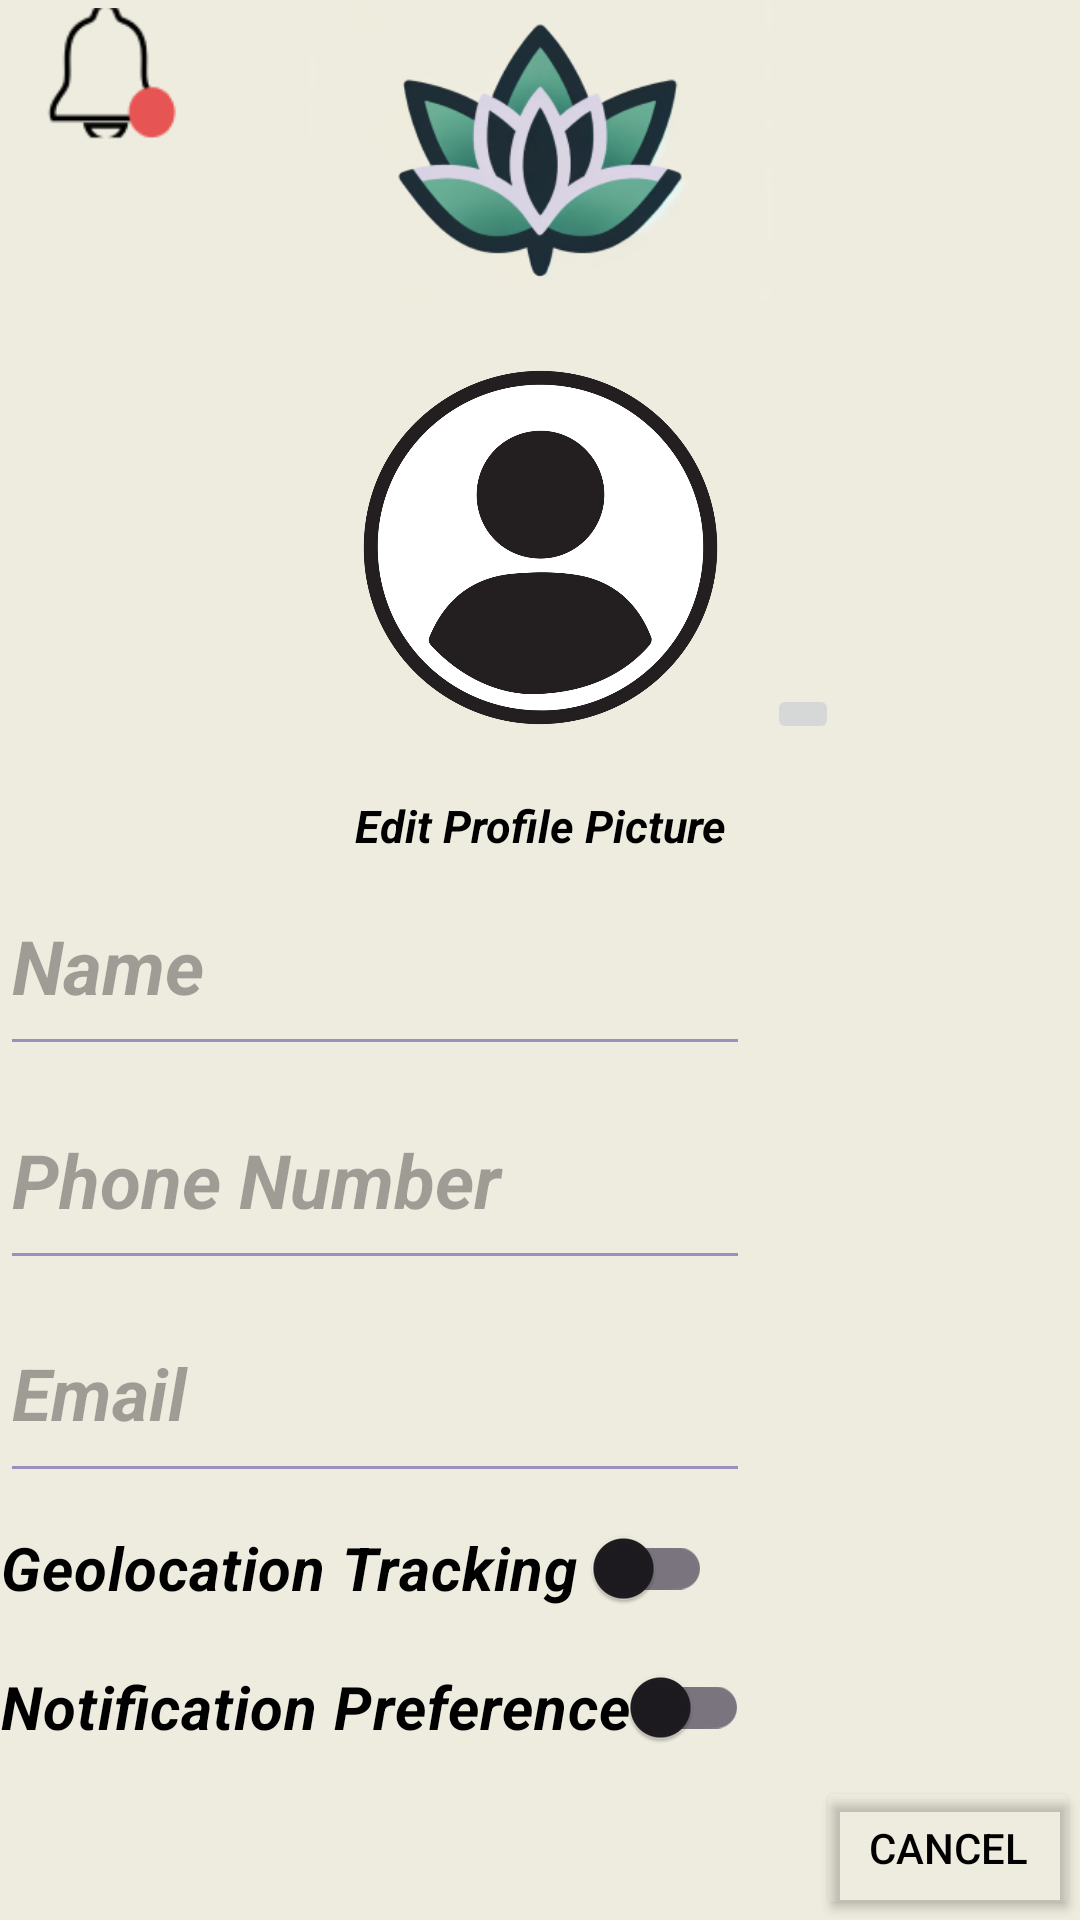

Icons on this 1080x1920 Android screen, each with its box as (x1, y1, x2, y2):
notifbell: (48, 8, 176, 139)
